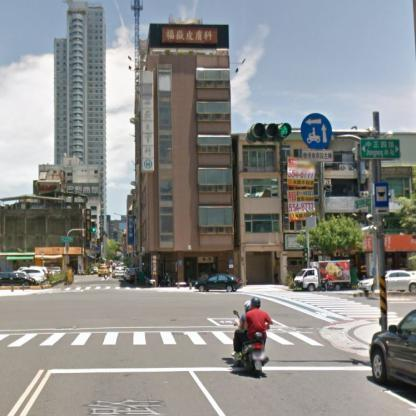Green Light: (250, 122, 292, 141)
